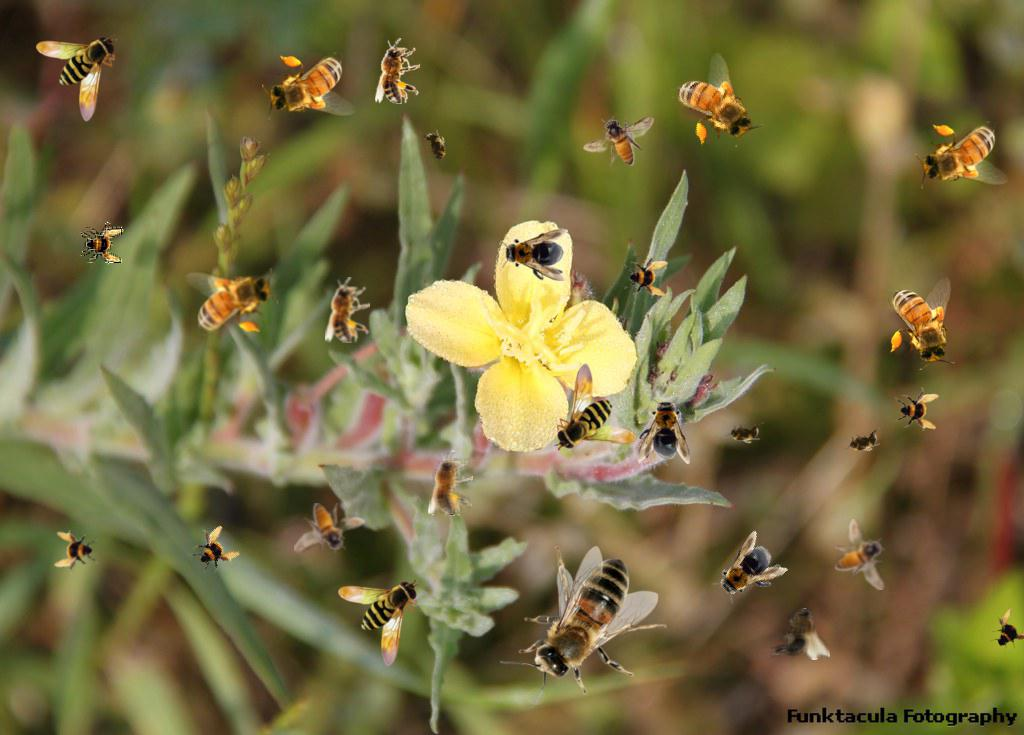Bee: (500, 546, 667, 708), (663, 48, 767, 163), (704, 529, 790, 615), (338, 579, 420, 667), (36, 34, 118, 122), (554, 363, 636, 451), (915, 121, 1008, 189), (185, 268, 278, 336), (887, 277, 955, 370), (262, 52, 355, 120), (182, 519, 244, 581), (294, 503, 365, 553), (583, 116, 654, 166), (835, 519, 885, 590), (638, 396, 690, 464), (500, 229, 568, 281), (768, 607, 830, 660), (428, 450, 473, 516), (375, 38, 420, 104), (325, 277, 370, 343), (977, 601, 1024, 663), (895, 387, 939, 431), (80, 221, 124, 265), (624, 254, 668, 298), (54, 530, 98, 574), (419, 124, 453, 170), (840, 426, 886, 458), (724, 422, 764, 444)
